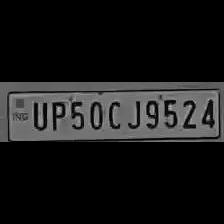0: (84, 97, 104, 130)
2: (179, 96, 197, 128)
4: (197, 96, 217, 128)
5: (66, 97, 86, 130), (160, 96, 178, 128)
9: (140, 96, 160, 128)
C: (104, 97, 124, 130)
J: (122, 96, 142, 130)
P: (46, 97, 66, 130)
U: (28, 97, 48, 130)
